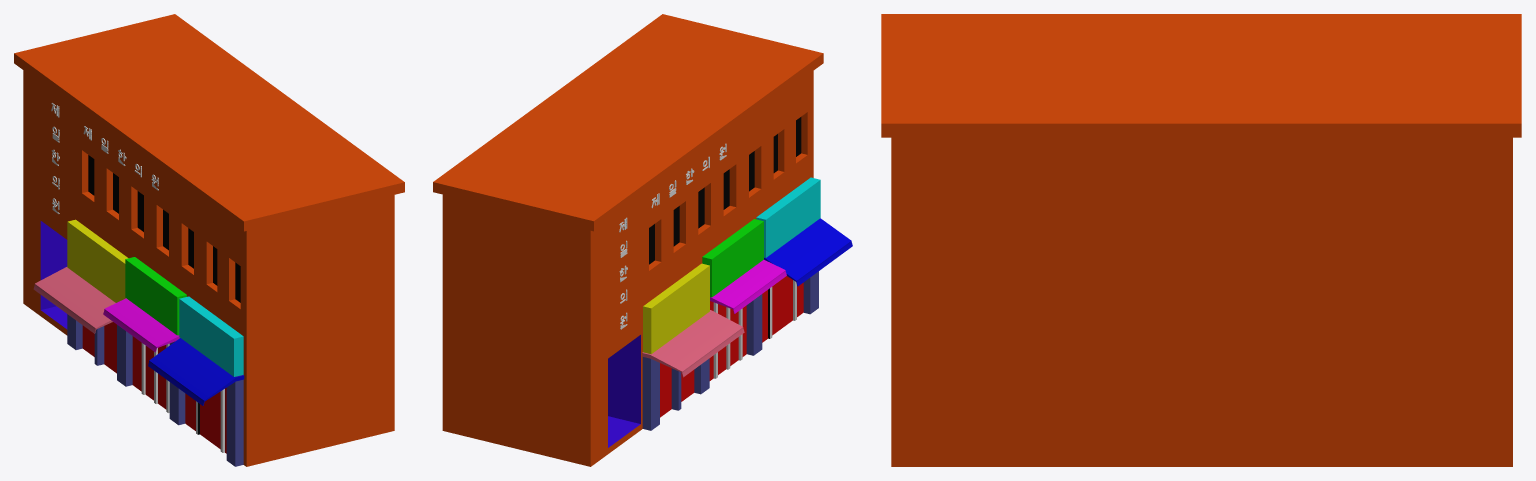
Rendered from Building_17.fbx.
The picture shows the model from 3 angles, left to right: view 1: azimuth 30°, elevation 25°; view 2: azimuth 150°, elevation 25°; view 3: azimuth 270°, elevation 25°; orthographic projection. The views are drawn at different scales.
Visible parts, largest first — view 1: Building_17, typeMesh57; view 2: Building_17; view 3: Building_17.
Part boxes in pixels (left/top/right/bottom): Building_17: left=14, top=14, right=404, bottom=466; typeMesh57: left=51, top=103, right=59, bottom=214; Building_17: left=433, top=14, right=852, bottom=466; Building_17: left=881, top=14, right=1521, bottom=466.
Bounding box in the file's own units: 118 × 143 × 239.
